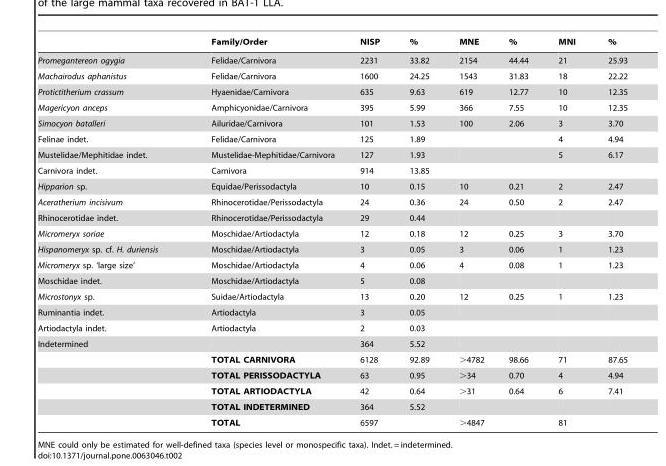table: (37, 37, 627, 426)
table column: (183, 37, 346, 426), (37, 37, 183, 426), (443, 37, 495, 426), (394, 37, 443, 426), (542, 37, 591, 426), (346, 37, 394, 426), (495, 37, 542, 426), (591, 37, 627, 426)
table column header: (37, 37, 627, 50)
table row: (37, 50, 627, 68), (37, 83, 627, 99), (37, 99, 627, 115), (37, 115, 627, 131), (37, 146, 627, 162), (37, 162, 627, 178), (37, 178, 627, 194), (37, 209, 627, 225), (37, 225, 627, 241), (37, 241, 627, 257), (37, 272, 627, 288), (37, 288, 627, 304), (37, 304, 627, 320), (37, 335, 627, 351), (37, 351, 627, 367), (37, 367, 627, 383), (37, 398, 627, 414), (37, 68, 627, 83), (37, 131, 627, 146), (37, 194, 627, 209), (37, 257, 627, 272), (37, 320, 627, 335), (37, 383, 627, 398), (37, 37, 627, 50), (37, 414, 627, 426)
table spanning cell: (37, 335, 183, 426)
